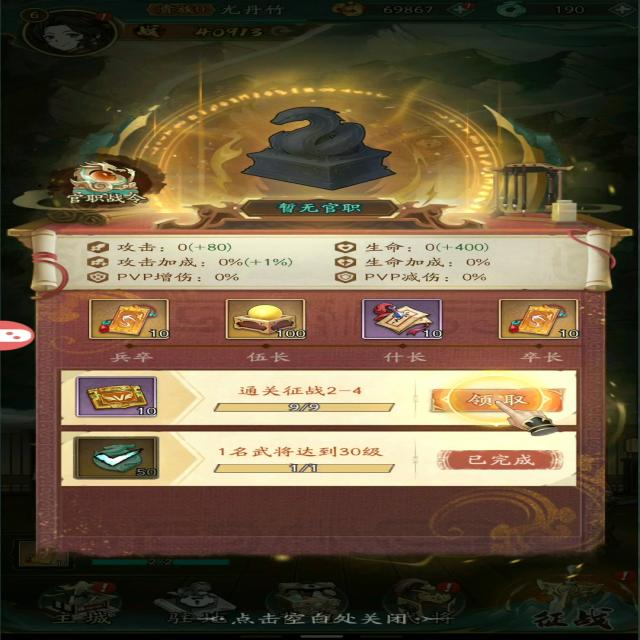hint-guide: (450, 368, 555, 429)
operation-RankBattletoken: (47, 150, 178, 223)
operation-confirm: (413, 378, 569, 415)
operation-confirm-off: (419, 446, 571, 484)
